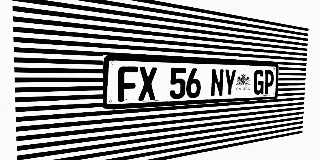5: (170, 67, 186, 99)
6: (186, 68, 201, 98)
F: (118, 66, 138, 102)
G: (253, 70, 264, 95)
N: (210, 69, 224, 97)
P: (264, 70, 274, 94)
X: (138, 67, 157, 101)
Y: (223, 69, 236, 96)
